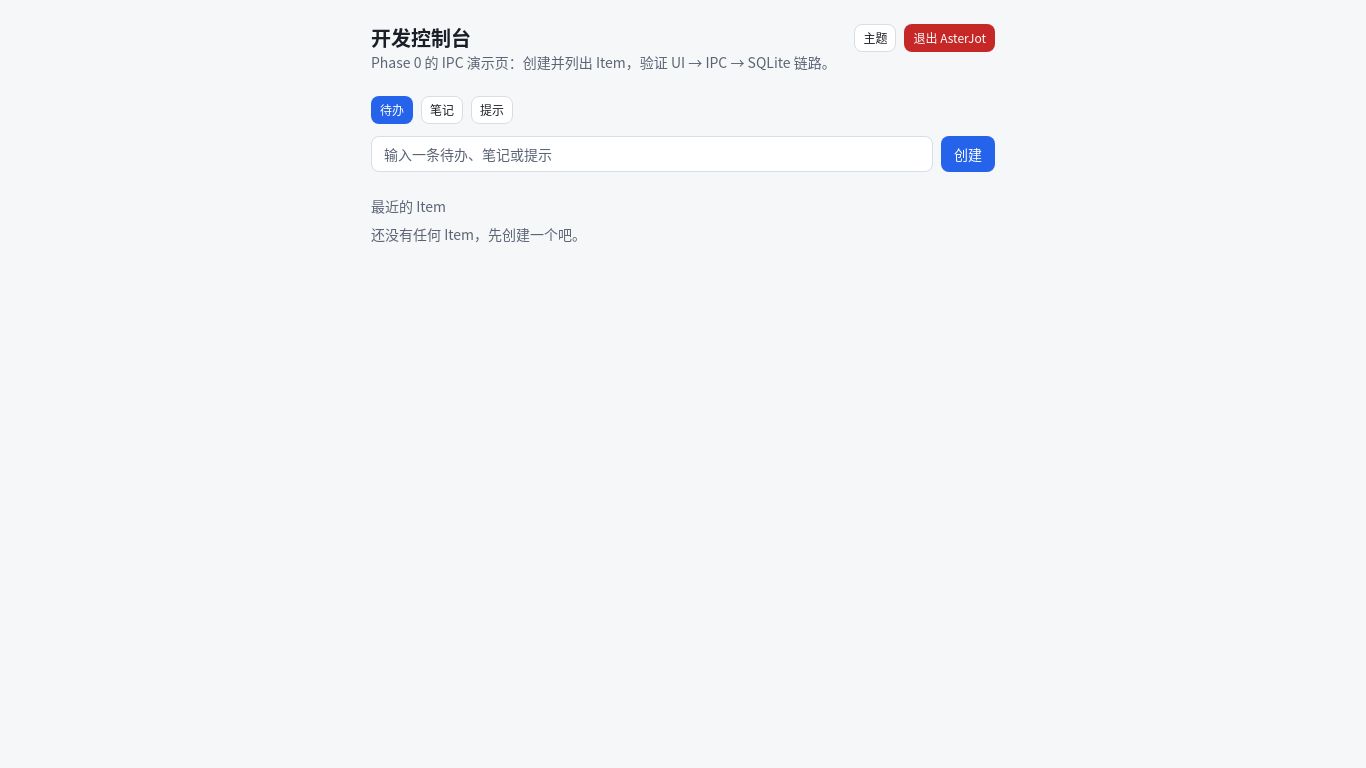
Scenario: DevConsole › 未知错误显示通用提示，不暴露后端 message
The width and height of the screenshot is (1366, 768).
Type "x" into the field named "标题" at (652, 154), box [371,136,933,172]
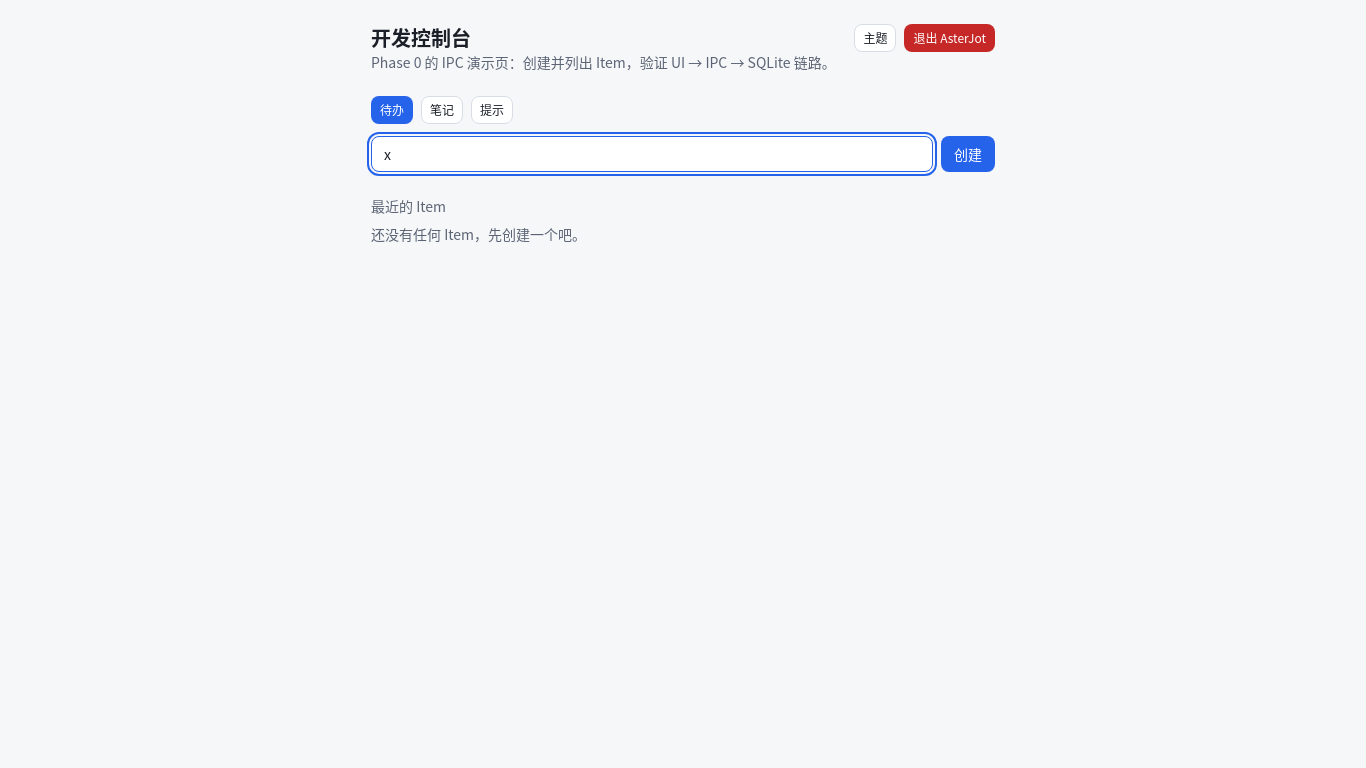
Click the button "创建" at (968, 154), box [941,136,995,172]
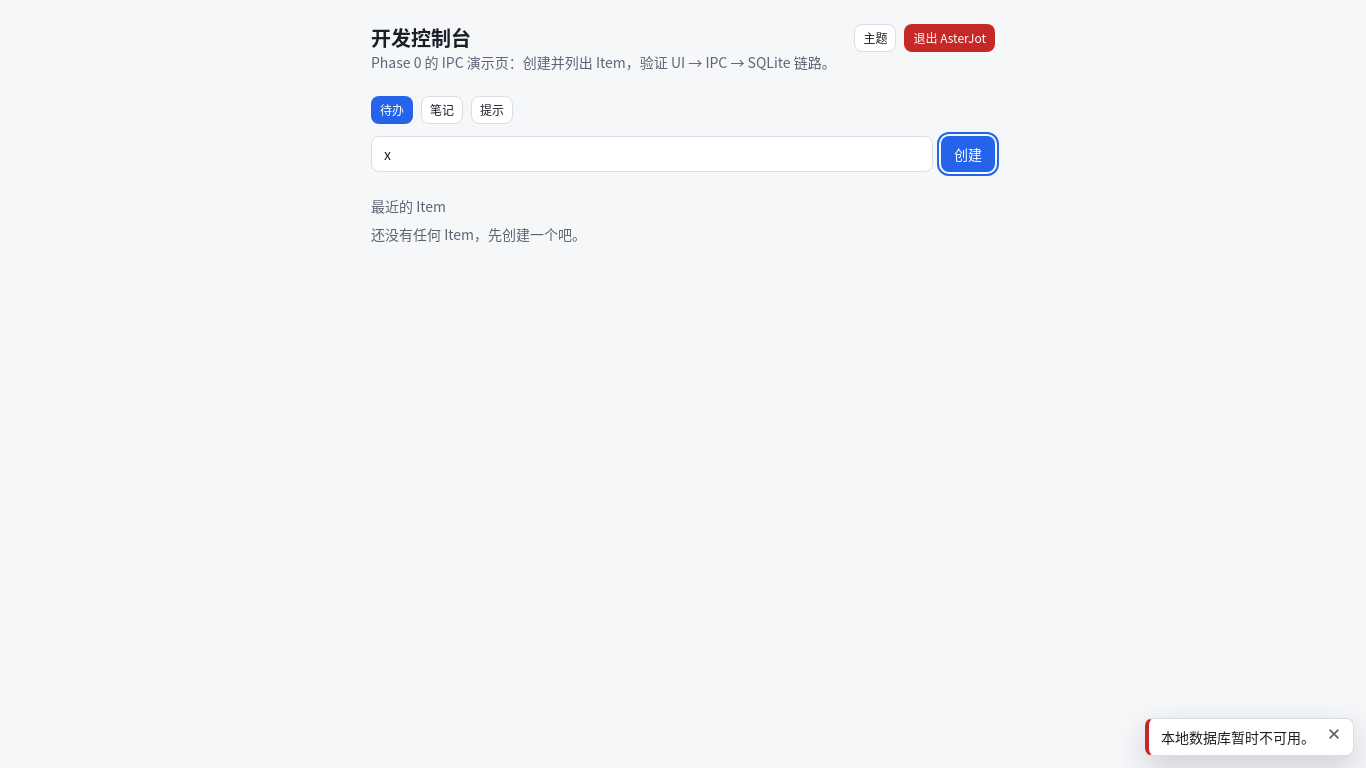
Expected: the message does not show "secret internals", [1145,718,1354,756]
Now the message reads "本地数据库暂时不可用。", box [1161,727,1315,747]
